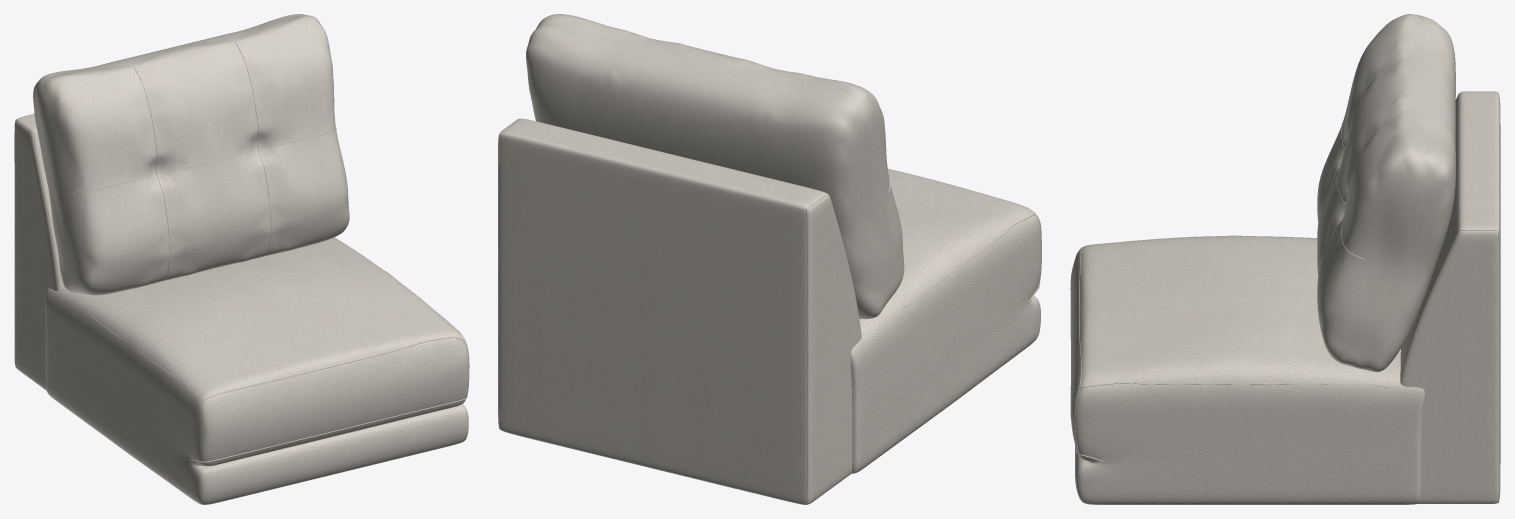
Rendered from seat.glb.
The picture shows the model from 3 angles, left to right: view 1: azimuth 30°, elevation 25°; view 2: azimuth 150°, elevation 25°; view 3: azimuth 270°, elevation 25°; orthographic projection. The views are drawn at different scales.
Parts seen in each view (by area): view 1: object 2, D=~ 0,00 m; view 2: object 2, D=~ 0,00 m; view 3: object 2, D=~ 0,00 m.
Part boxes in pixels (bbox=[...]): object 2: bbox=[14, 14, 468, 504]; D=~ 0,00 m: bbox=[15, 42, 469, 462]; object 2: bbox=[498, 14, 1041, 504]; D=~ 0,00 m: bbox=[498, 39, 1041, 504]; object 2: bbox=[1070, 14, 1500, 504]; D=~ 0,00 m: bbox=[1074, 58, 1499, 502].
Bounding box in the file's own units: 0.8481 × 0.9312 × 1.03.
Materials: 2 (2 with a texture image).
